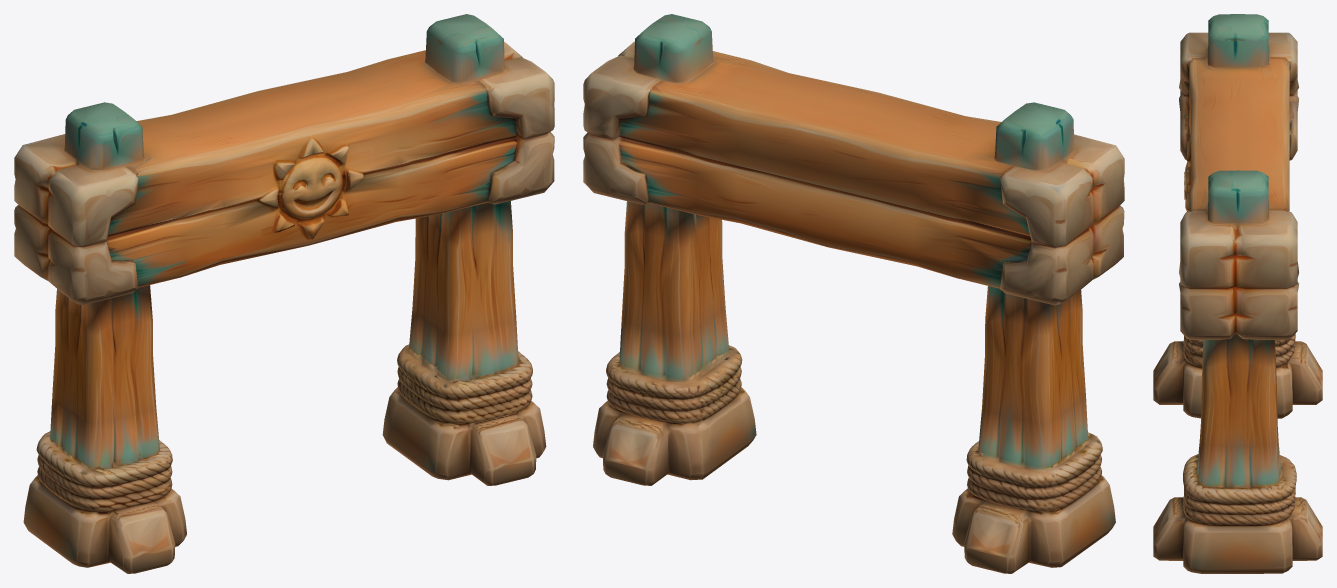
Rendered from raw.glb.
3 views of the same model, side by side, from view 1: azimuth 30°, elevation 25°; view 2: azimuth 150°, elevation 25°; view 3: azimuth 270°, elevation 25° (orthographic). The views are drawn at different scales.
Visible parts, largest first — view 1: material; view 2: material; view 3: material.
Part boxes in pixels (<box>): material: <box>14,14,554,573</box>; material: <box>583,14,1124,573</box>; material: <box>1153,14,1322,573</box>.
Size of the model in its own units: 1.9 by 1.58 by 0.6516.
Materials: 1 (1 with a texture image).
